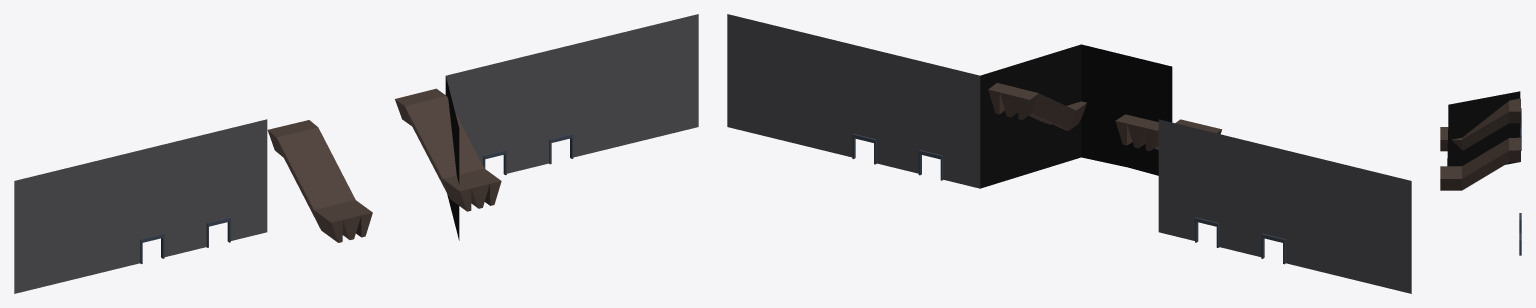
File: background.fbx
3 views of the same model, side by side, from view 1: azimuth 30°, elevation 25°; view 2: azimuth 150°, elevation 25°; view 3: azimuth 270°, elevation 25° (orthographic). The views are drawn at different scales.
Visible parts, largest first — view 1: Background Lobby; view 2: Background Lobby; view 3: Background Lobby.
Boxes of the visible parts, left/top/right/bottom form: Background Lobby: left=14, top=14, right=698, bottom=293; Background Lobby: left=727, top=14, right=1411, bottom=293; Background Lobby: left=1440, top=91, right=1521, bottom=255.
Size of the model in its own units: 5863 by 928 by 961.
